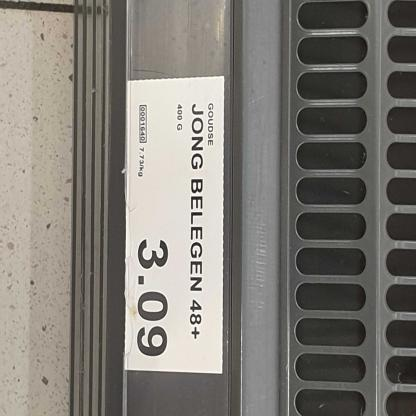prtg: (124, 77, 225, 374)
